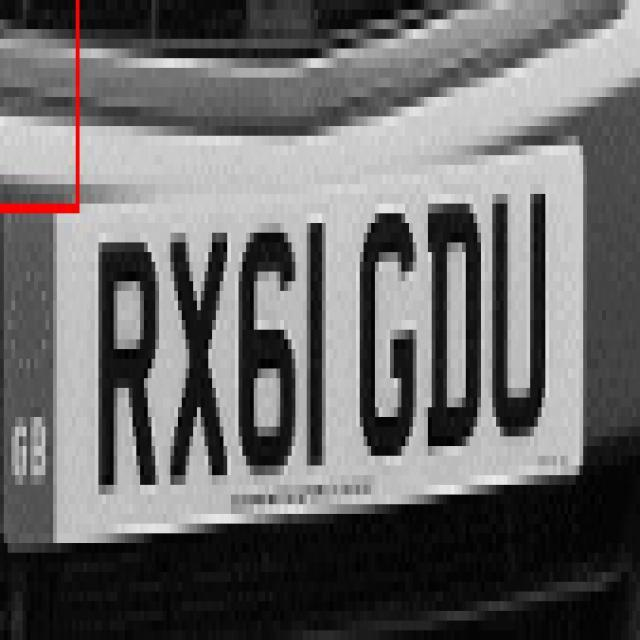1: (300, 212, 338, 489)
6: (236, 209, 301, 479)
D: (423, 188, 485, 457)
G: (356, 174, 422, 468)
R: (90, 213, 162, 520)
U: (486, 176, 554, 455)
X: (165, 214, 232, 494)
